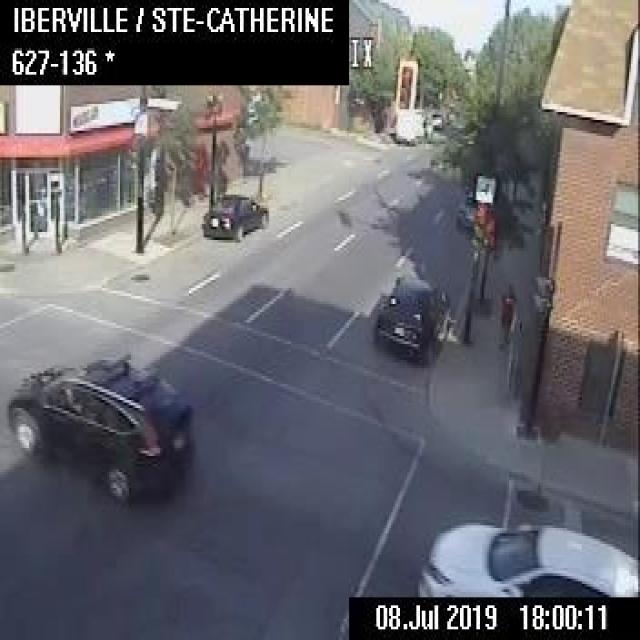pedestrian: (496, 282, 516, 347)
vehicle: (4, 352, 198, 501), (416, 520, 638, 595), (372, 273, 450, 360), (200, 190, 267, 238), (395, 106, 432, 143), (454, 189, 474, 227), (431, 110, 442, 126)
